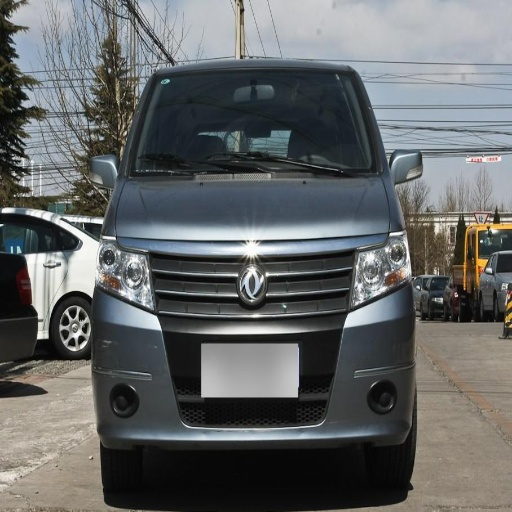front_bumper: (95, 234, 410, 441)
front_right_light: (96, 237, 154, 311)
hood: (113, 176, 391, 313)
